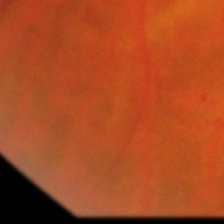MA: (200, 94, 207, 102)
